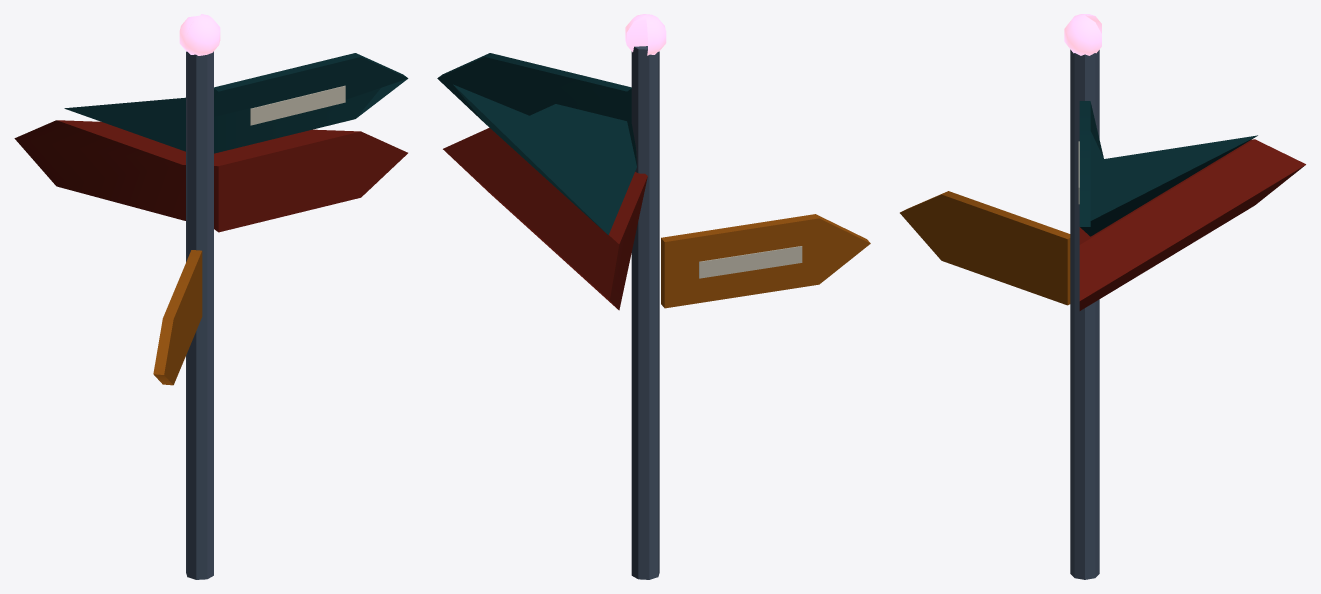
Rendered from sign_post.glb.
3 renders of one model, left to right at view 1: azimuth 30°, elevation 25°; view 2: azimuth 150°, elevation 25°; view 3: azimuth 270°, elevation 25°, orthographic.
Visible parts, largest first — view 1: sign_post; view 2: sign_post; view 3: sign_post.
Part boxes in pixels (box(x1,y1,x2,y2)): sign_post: box(14, 14, 408, 579); sign_post: box(437, 14, 870, 579); sign_post: box(900, 14, 1305, 579).
Bounding box in the file's own units: 2.16 × 3.37 × 2.23.
